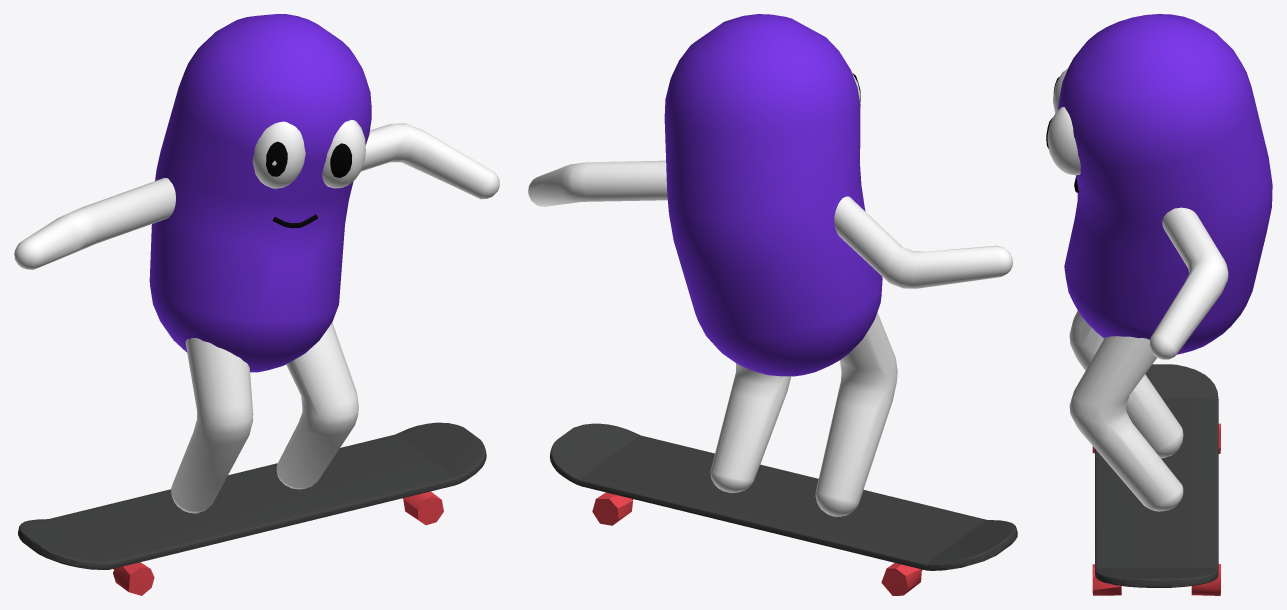
The model's file is Skateboarder_2_decimated.fbx.
The picture shows the model from 3 angles, left to right: view 1: azimuth 30°, elevation 25°; view 2: azimuth 150°, elevation 25°; view 3: azimuth 270°, elevation 25°; orthographic projection.
Visible parts, largest first — view 1: skateboarder.001_rm_rm; view 2: skateboarder.001_rm_rm; view 3: skateboarder.001_rm_rm.
Part boxes in pixels (x1,y1,x2,y2): skateboarder.001_rm_rm: (14, 14, 499, 595); skateboarder.001_rm_rm: (528, 14, 1017, 595); skateboarder.001_rm_rm: (1046, 14, 1272, 595).
Size of the model in its own units: 197 by 200 by 80.16.
